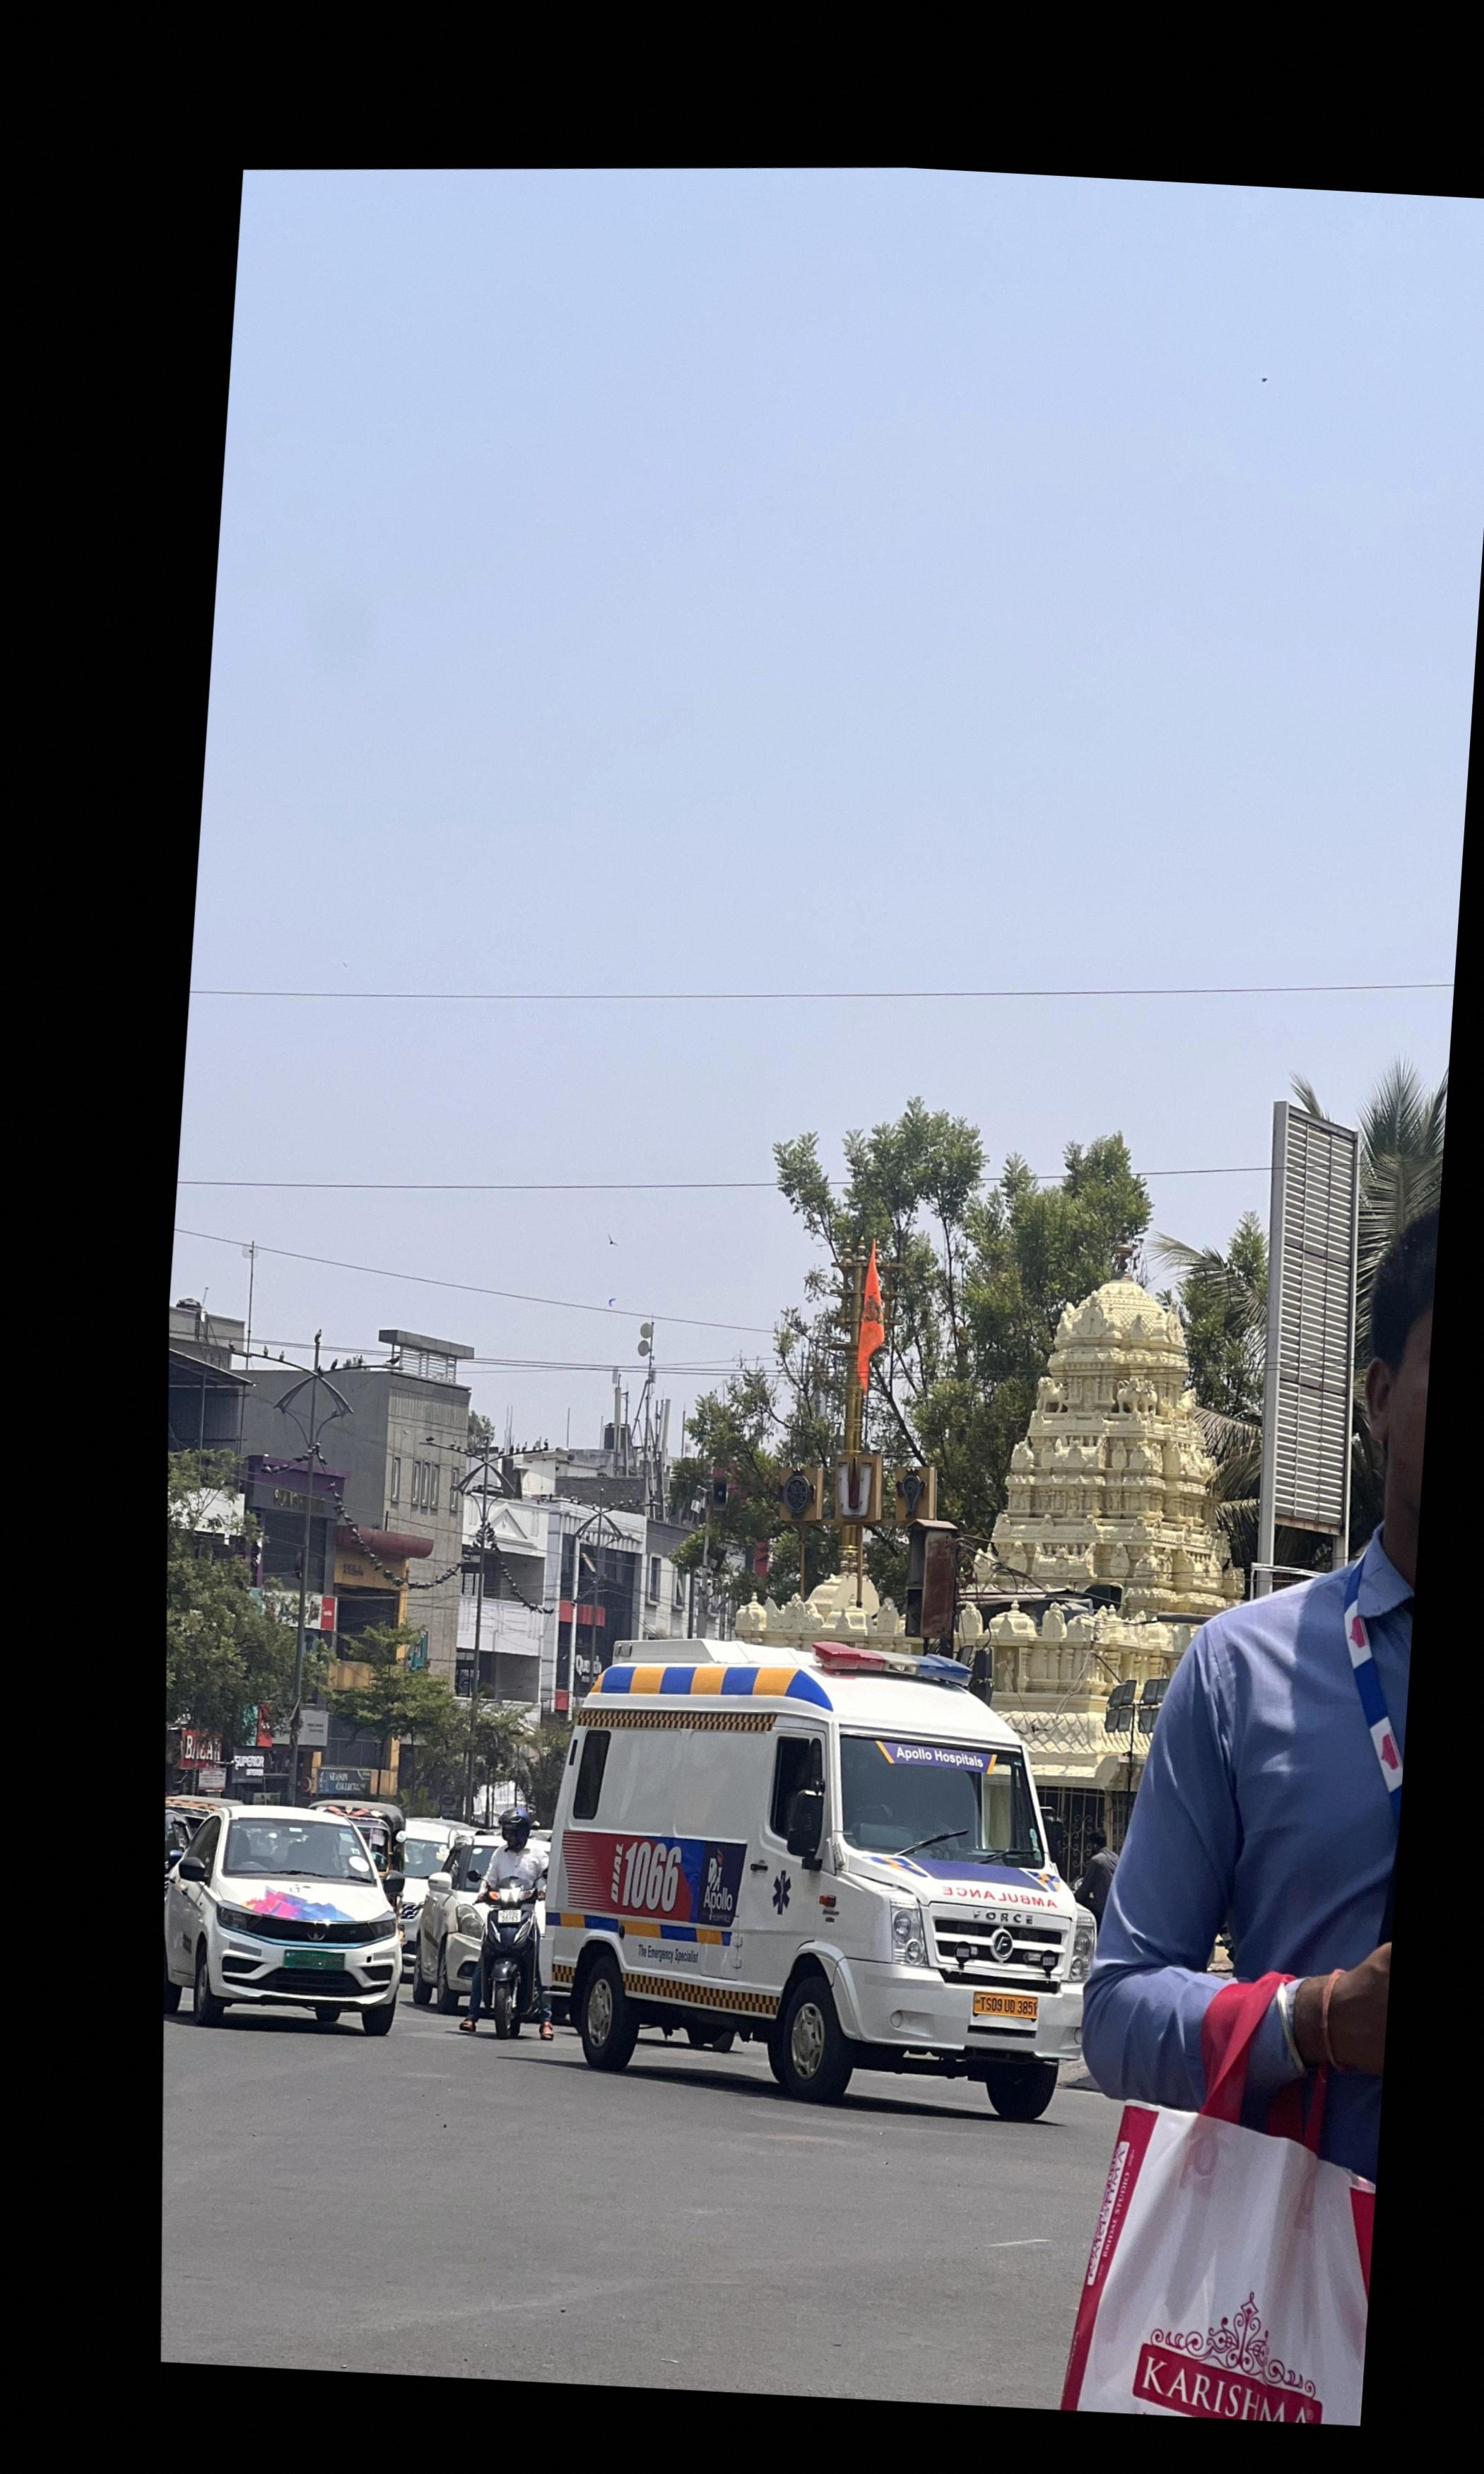ambulance: (541, 1635, 1095, 2122)
